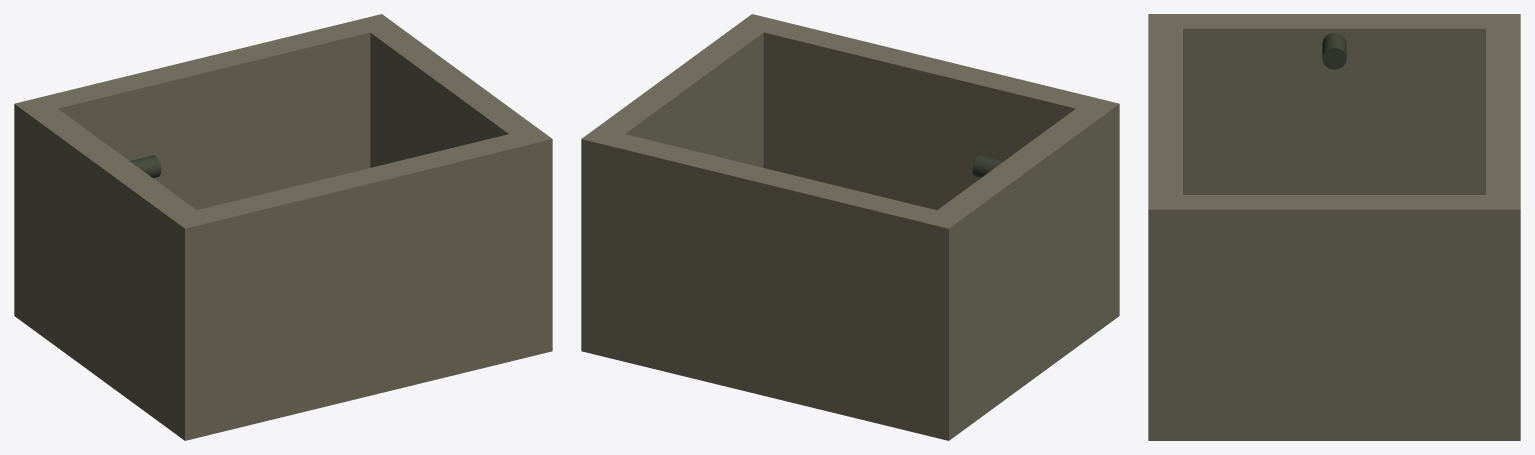
Rendered from bathtub.fbx.
The picture shows the model from 3 angles, left to right: view 1: azimuth 30°, elevation 25°; view 2: azimuth 150°, elevation 25°; view 3: azimuth 270°, elevation 25°; orthographic projection. The views are drawn at different scales.
Parts seen in each view (by area): view 1: Cube; view 2: Cube; view 3: Cube, Cylinder.
Boxes of the visible parts, <box> form: Cube: <box>14,14,552,440</box>; Cube: <box>581,14,1119,440</box>; Cube: <box>1148,14,1520,440</box>; Cylinder: <box>1322,32,1346,69</box>.
Bounding box in the file's own units: 200 × 110 × 161.
